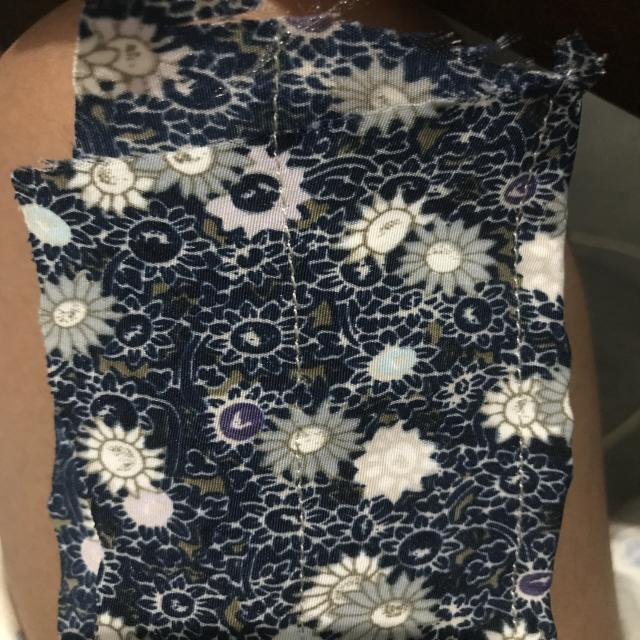good: (271, 249, 314, 354)
